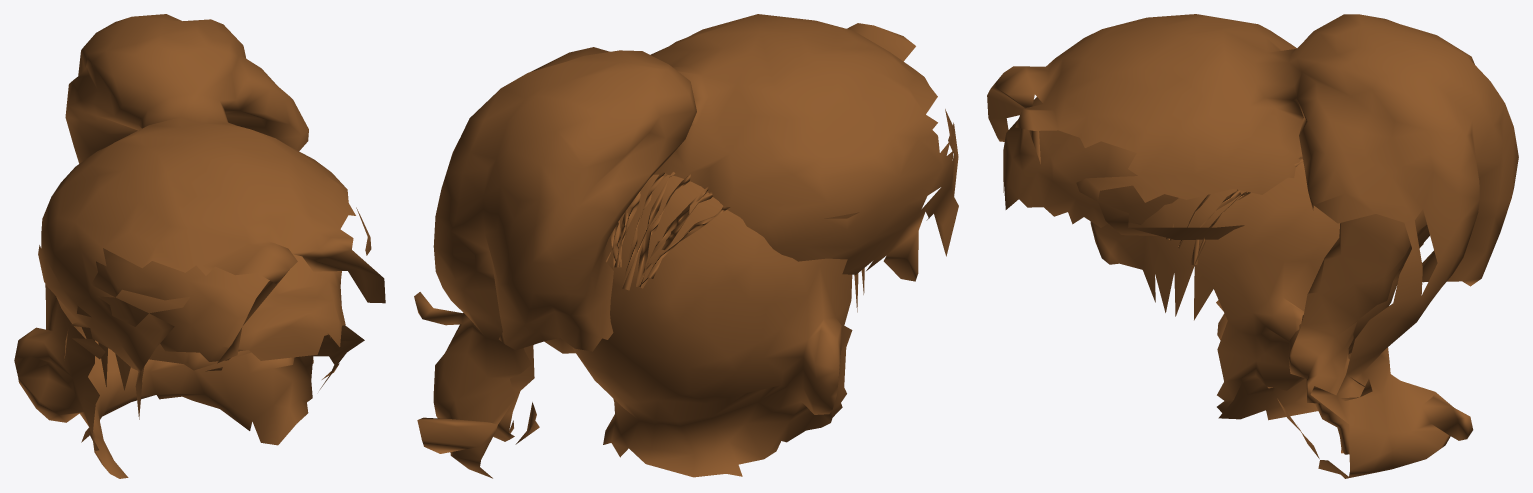
The model's file is high-ponytail.glb.
3 views of the same model, side by side, from view 1: azimuth 30°, elevation 25°; view 2: azimuth 150°, elevation 25°; view 3: azimuth 270°, elevation 25° (orthographic). The views are drawn at different scales.
Visible parts, largest first — view 1: Hair, HairScalp; view 2: Hair, HairScalp, HairPulledRootStrands; view 3: Hair, HairScalp, HairPulledRootStrands.
Boxes of the visible parts, <box> form: Hair: <box>38,14,385,419</box>; HairScalp: <box>14,284,330,478</box>; Hair: <box>414,14,958,478</box>; HairScalp: <box>544,174,864,477</box>; HairPulledRootStrands: <box>606,171,730,290</box>; Hair: <box>987,14,1518,478</box>; HairScalp: <box>1090,155,1398,420</box>; HairPulledRootStrands: <box>1165,156,1303,265</box>.
Bounding box in the file's own units: 0.5864 × 0.5637 × 0.7208.
